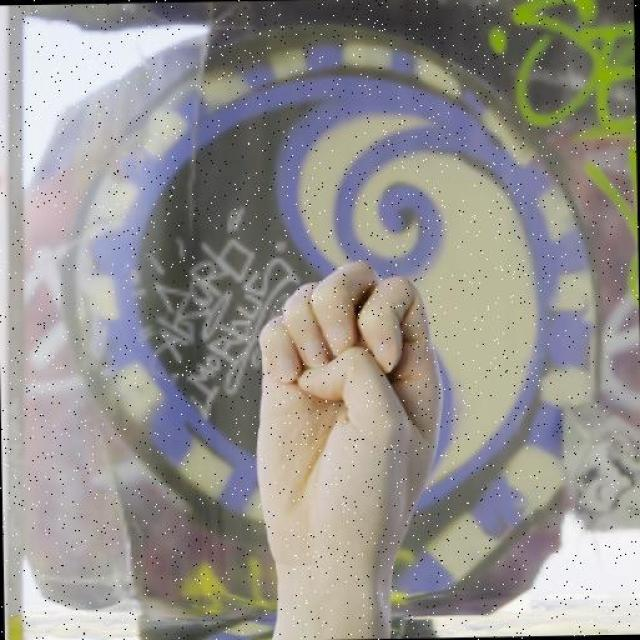E: (249, 255, 448, 561)
